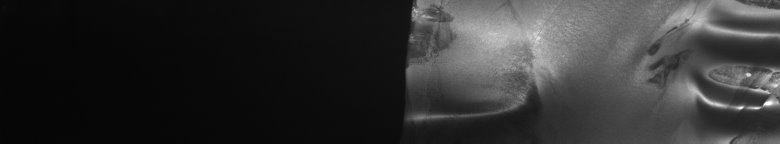ke: (648, 4, 776, 116)
